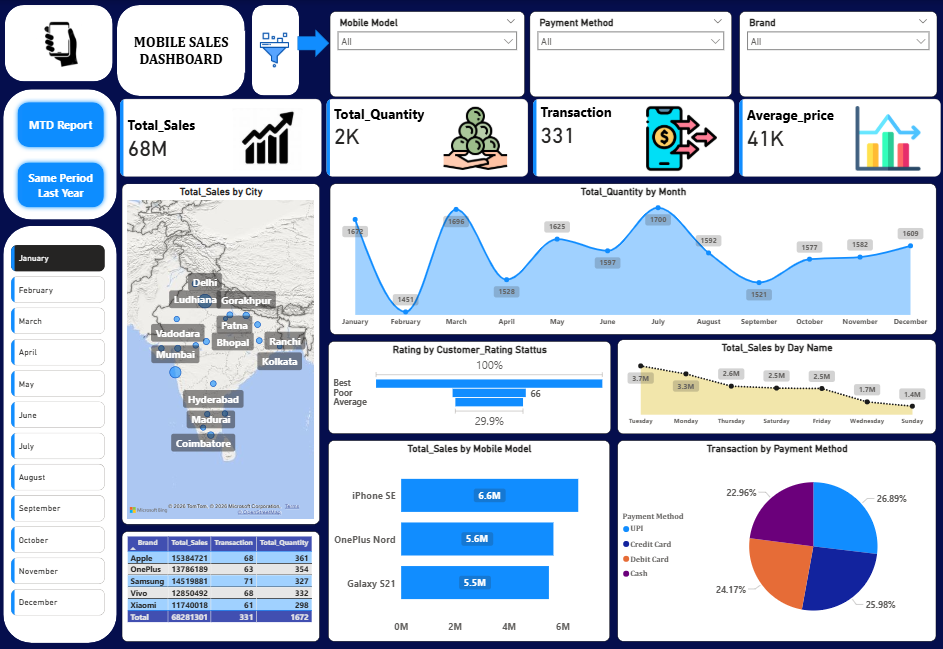

What the dashboard file says about the page in this screenshot:
{"tool":"powerbi","page":{"name":"Dashboard","canvas":[1600,1100],"ordinal":0},"visuals":[{"type":"shape","box":[9.5,9.5,182.9,130],"z":0},{"type":"image","box":[23,20.3,154.4,103],"z":1000},{"type":"shape","box":[5.4,382,192.4,707.1],"z":2000},{"type":"shape","box":[5.4,150.4,192.4,220.8],"z":3000},{"type":"advancedSlicerVisual","fields":{"Values":["Custom_Calender.Date.Variation.Date Hierarchy.Month"]},"box":[14.9,411.8,169.3,647.5],"z":4000},{"type":"cardVisual","fields":{"Data":["Sales data.Total_Sales","Sales data.Total_Quantity","Sales data.Transaction","Sales data.Average_price"]},"box":[197.8,163.9,1402.1,142.2],"z":5000},{"type":"slicer","fields":{"Values":["Sales data.Payment Method"]},"box":[898.7,18.9,342.6,145.2],"z":6000},{"type":"slicer","fields":{"Values":["Sales data.Mobile Model"]},"box":[559.5,19,330.5,145],"z":7000},{"type":"slicer","fields":{"Values":["Sales data.Brand"]},"box":[1253,18.9,335.4,145.2],"z":8000},{"type":"shape","box":[425.9,8.9,79.9,153.8],"z":9000},{"type":"image","box":[430.3,19.2,71,131.6],"z":10000},{"type":"shape","box":[505.3,50.1,54.2,47.4],"z":11000},{"type":"shape","box":[197.8,9.5,216.7,154.4],"z":12000},{"type":"textbox","box":[197.5,51,217.5,71],"z":13000},{"type":"map","fields":{"Category":["Sales data.City"],"Size":["Sales data.Total_Sales"]},"box":[207.6,312.2,335.4,577.9],"z":14000},{"type":"lineChart","fields":{"Y":["Sales data.Total_Quantity"],"Category":["Custom_Calender.Date.Variation.Date Hierarchy.Month"]},"box":[559.5,311.6,1028.2,256],"z":15000},{"type":"funnel","title":" Rating by Customer_Rating Stattus","fields":{"Y":["CountNonNull(Sales data.Customer Age)"],"Category":["Sales data.Customer_Reating"]},"box":[556.1,579.3,479.1,156.8],"z":16000},{"type":"pieChart","fields":{"Y":["Sales data.Transaction"],"Category":["Sales data.Payment Method"]},"box":[1046.8,747.7,540.1,341.2],"z":17000},{"type":"clusteredBarChart","fields":{"Y":["Sales data.Total_Sales"],"Category":["Sales data.Mobile Model"]},"box":[557.5,747.7,477.7,341.2],"z":18000},{"type":"areaChart","fields":{"Y":["Sales data.Total_Sales"],"Category":["Custom_Calender.Day Name"]},"box":[1046.8,576.4,540.1,159.7],"z":19000},{"type":"tableEx","fields":{"Values":["Sales data.Brand","Sales data.Total_Sales","Sales data.Transaction","Sales data.Total_Quantity"]},"box":[207.6,901.6,335.4,187.3],"z":20000},{"type":"pageNavigator","box":[22.2,164.1,162.7,195.2],"z":21000},{"type":"image","box":[375.7,178.6,157.1,114.3],"z":22000}]}

Visuals, with their boxes in screenshot pixels (x1, y1, x2, y2), scaled from the page's 1600x1100 canvas onto the 943x649 screenshot:
shape: region(6, 6, 113, 82)
image: region(14, 12, 105, 73)
shape: region(3, 225, 117, 643)
shape: region(3, 89, 117, 219)
advancedSlicerVisual - Custom_Calender.Date.Variation.Date Hierarchy.Month: region(9, 243, 109, 625)
cardVisual - Sales data.Total_Sales x Sales data.Total_Quantity: region(117, 97, 942, 181)
slicer - Sales data.Payment Method: region(530, 11, 732, 97)
slicer - Sales data.Mobile Model: region(330, 11, 525, 97)
slicer - Sales data.Brand: region(738, 11, 936, 97)
shape: region(251, 5, 298, 96)
image: region(254, 11, 295, 89)
shape: region(298, 30, 330, 58)
shape: region(117, 6, 244, 97)
textbox: region(116, 30, 245, 72)
map - Sales data.City x Sales data.Total_Sales: region(122, 184, 320, 525)
lineChart - Sales data.Total_Quantity x Custom_Calender.Date.Variation.Date Hierarchy.Month: region(330, 184, 936, 335)
" Rating by Customer_Rating Stattus" funnel: region(328, 342, 610, 434)
pieChart - Sales data.Transaction x Sales data.Payment Method: region(617, 441, 935, 642)
clusteredBarChart - Sales data.Total_Sales x Sales data.Mobile Model: region(329, 441, 610, 642)
areaChart - Sales data.Total_Sales x Custom_Calender.Day Name: region(617, 340, 935, 434)
tableEx - Sales data.Brand x Sales data.Total_Sales: region(122, 532, 320, 642)
pageNavigator: region(13, 97, 109, 212)
image: region(221, 105, 314, 173)
